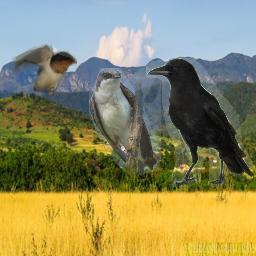Crow: (146, 58, 254, 187)
Swallow: (89, 68, 161, 176), (12, 44, 77, 96)
